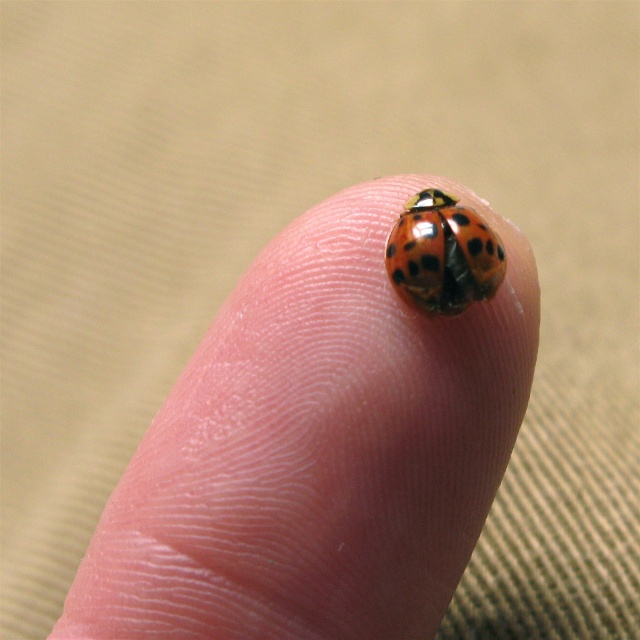Ladybug: (380, 187, 507, 318)
